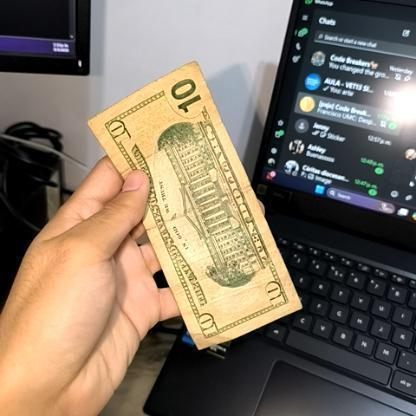ten-back: (84, 57, 304, 354)
